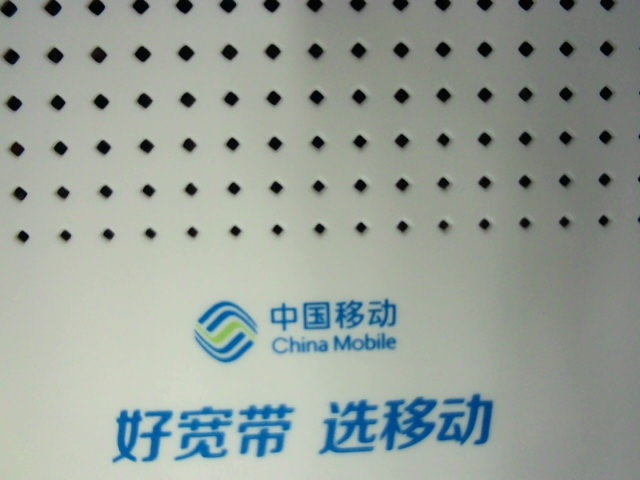AA_ChinaMoble: (95, 283, 517, 463)
